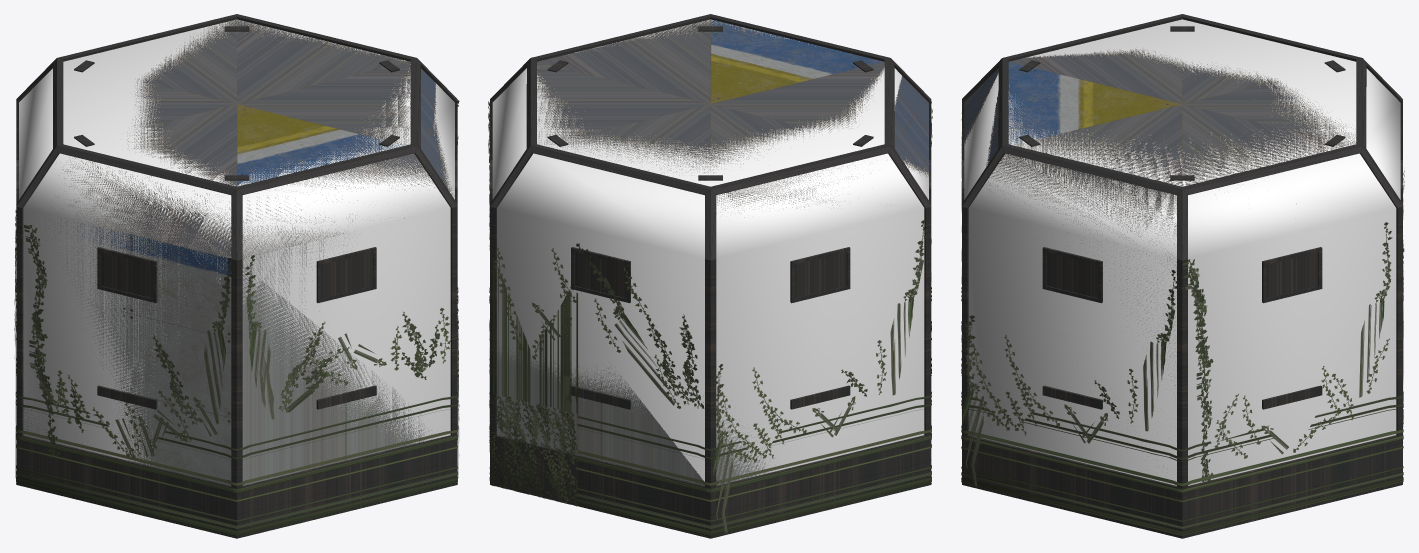
3 renders of one model, left to right at view 1: azimuth 30°, elevation 25°; view 2: azimuth 150°, elevation 25°; view 3: azimuth 270°, elevation 25°, orthographic.
Parts seen in each view (by area): view 1: um_objects_un_a_w23base05_02_model_lod0Shape:objects_un_a_w2 (×5), um_objects_un_a_w23base05_02_model_lod0Shape:shadow_mat, um_objects_un_a_w23base05_02_model_lod1Shape:objects_un_a_w2 (×3), um_objects_un_a_w23base05_02_model_lod2Shape:objects_un_a_w2 (×2); view 2: um_objects_un_a_w23base05_02_model_lod0Shape:shadow_mat, um_objects_un_a_w23base05_02_model_lod0Shape:objects_un_a_w2 (×4), um_objects_un_a_w23base05_02_model_lod1Shape:objects_un_a_w2 (×3), um_objects_un_a_w23base05_02_model_lod2Shape:objects_un_a_w2 (×2); view 3: um_objects_un_a_w23base05_02_model_lod0Shape:shadow_mat, um_objects_un_a_w23base05_02_model_lod0Shape:objects_un_a_w2 (×4), um_objects_un_a_w23base05_02_model_lod2Shape:objects_un_a_w2 (×2), um_objects_un_a_w23base05_02_model_lod1Shape:objects_un_a_w2 (×2).
Boxes of the visible parts, x1,y1,x2,y2 form: um_objects_un_a_w23base05_02_model_lod0Shape:objects_un_a_w2 (×5): (14, 14, 459, 538); um_objects_un_a_w23base05_02_model_lod0Shape:shadow_mat: (19, 19, 454, 466); um_objects_un_a_w23base05_02_model_lod1Shape:objects_un_a_w2 (×3): (15, 151, 458, 537); um_objects_un_a_w23base05_02_model_lod2Shape:objects_un_a_w2 (×2): (15, 100, 459, 537); um_objects_un_a_w23base05_02_model_lod0Shape:shadow_mat: (492, 19, 928, 481); um_objects_un_a_w23base05_02_model_lod0Shape:objects_un_a_w2 (×4): (488, 14, 932, 538); um_objects_un_a_w23base05_02_model_lod1Shape:objects_un_a_w2 (×3): (488, 101, 932, 537); um_objects_un_a_w23base05_02_model_lod2Shape:objects_un_a_w2 (×2): (488, 102, 931, 537); um_objects_un_a_w23base05_02_model_lod0Shape:shadow_mat: (964, 19, 1400, 485); um_objects_un_a_w23base05_02_model_lod0Shape:objects_un_a_w2 (×4): (961, 14, 1404, 538); um_objects_un_a_w23base05_02_model_lod2Shape:objects_un_a_w2 (×2): (961, 136, 1403, 535); um_objects_un_a_w23base05_02_model_lod1Shape:objects_un_a_w2 (×2): (961, 65, 1404, 486).
Bounding box in the file's own units: 32.54 × 23.07 × 28.18.
Materials: 6 (5 with a texture image).
